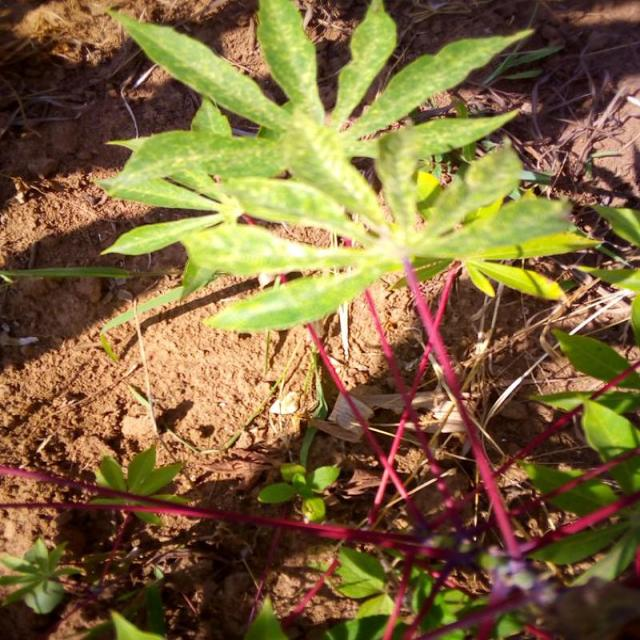cassava leaf: (92, 0, 598, 336)
